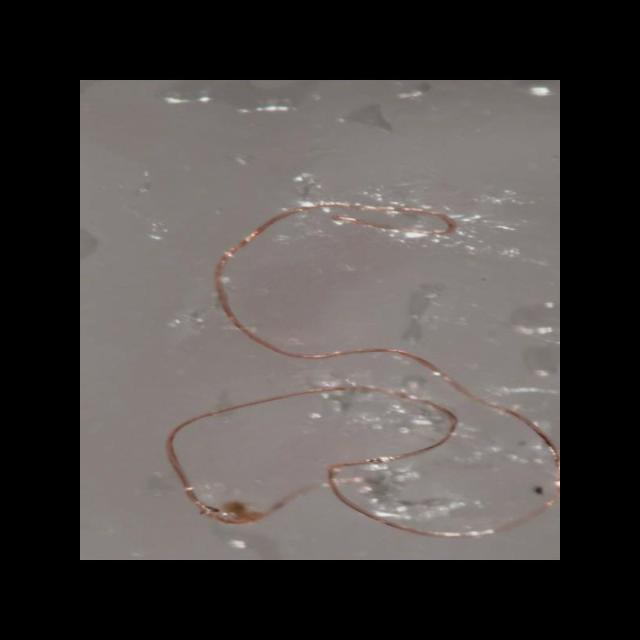Fibre: (164, 202, 560, 538)
